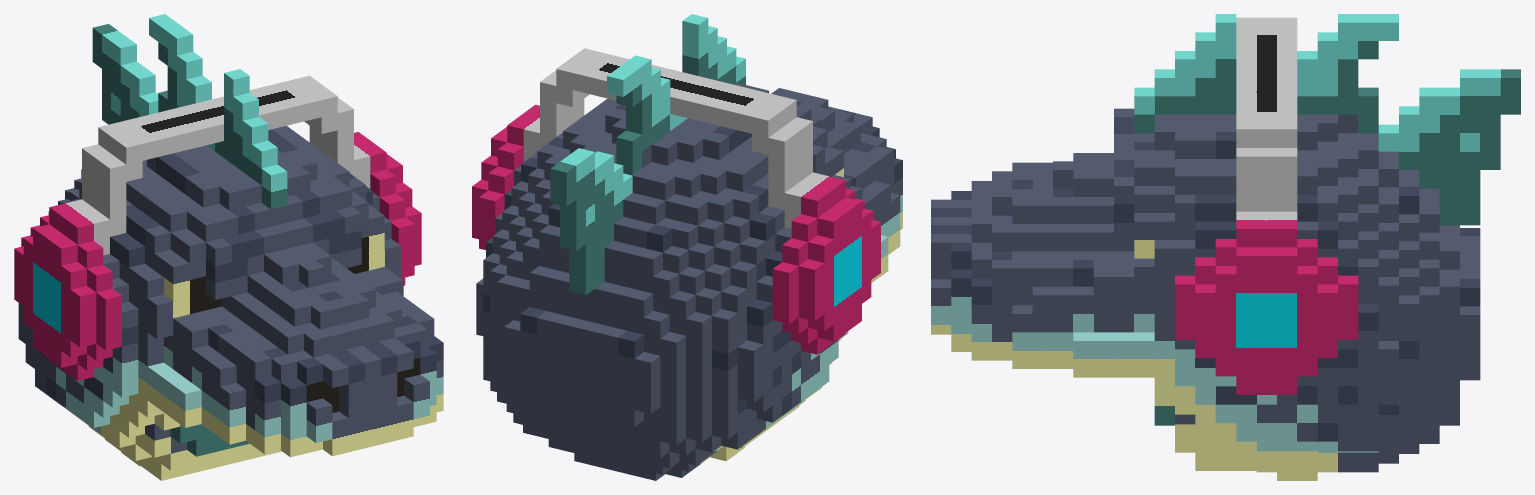
The model's file is headphones.gltf.
3 renders of one model, left to right at view 1: azimuth 30°, elevation 25°; view 2: azimuth 150°, elevation 25°; view 3: azimuth 270°, elevation 25°, orthographic. The views are drawn at different scales.
Parts seen in each view (by area): view 1: 16_Zilla_Head_Headphones-Mesh; view 2: 16_Zilla_Head_Headphones-Mesh; view 3: 16_Zilla_Head_Headphones-Mesh.
Part boxes in pixels (x1,y1,x2,y2): 16_Zilla_Head_Headphones-Mesh: [14, 14, 443, 480]; 16_Zilla_Head_Headphones-Mesh: [472, 14, 902, 480]; 16_Zilla_Head_Headphones-Mesh: [931, 14, 1520, 480].
Size of the model in its own units: 21 by 23 by 29.
1 material, 1 textured.
